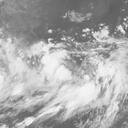cyclone: (38, 37, 106, 107)
